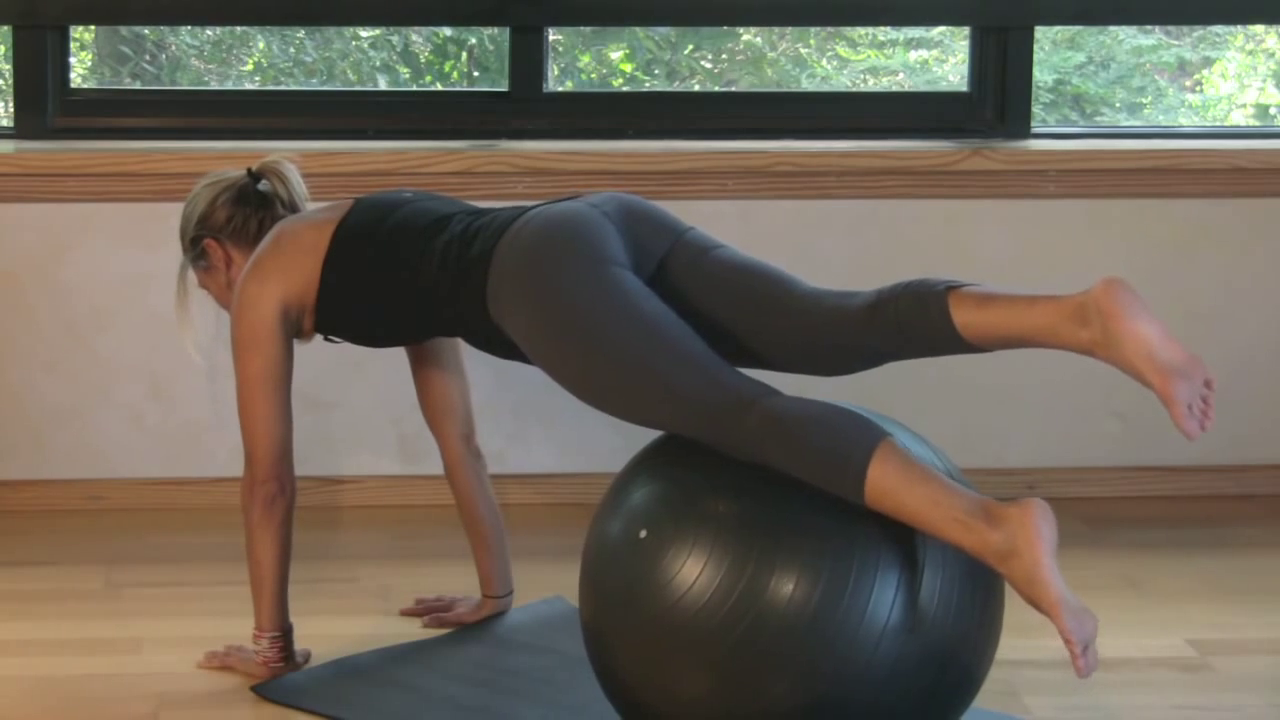yogaball: (572, 397, 1019, 717)
